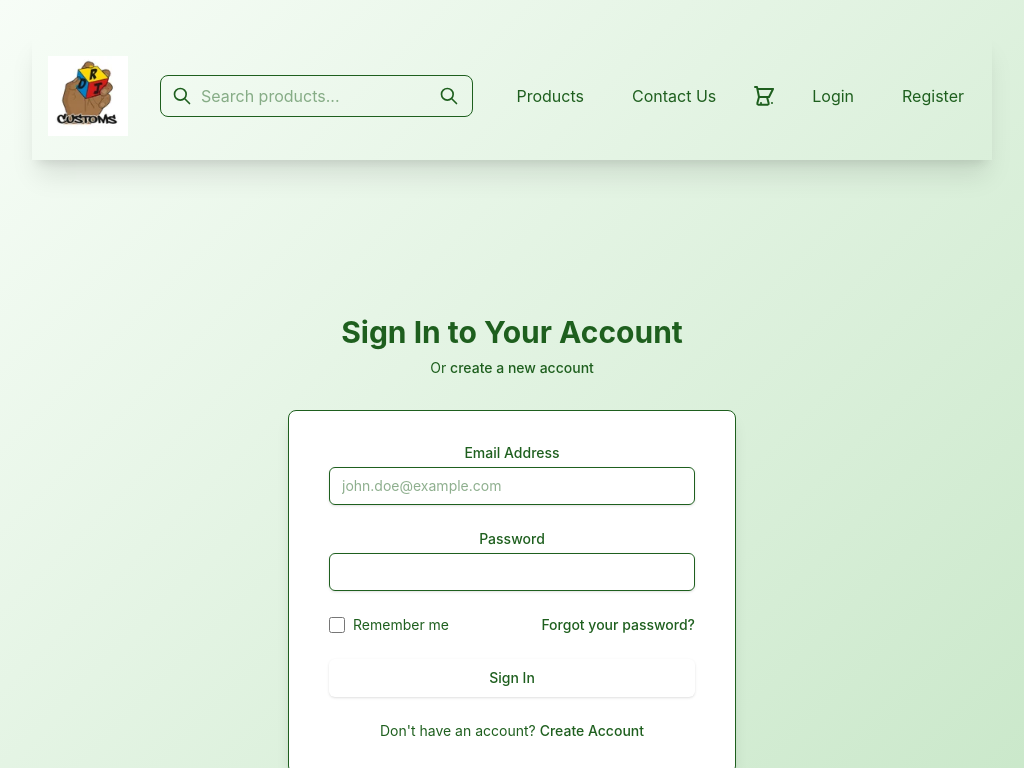
it: Login Flow Integration Tests › should validate email format
// Enter invalid email
In the field labelled "Email Address": point(512, 486) [329,467,695,505], type "invalid-email"
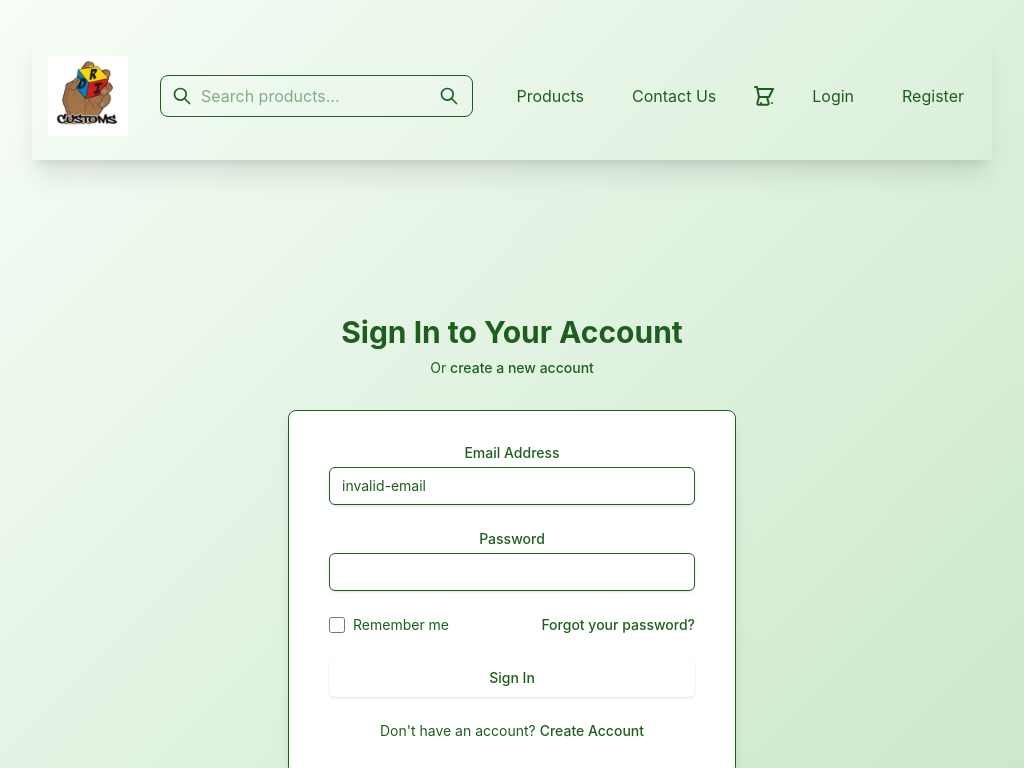
Press Tab
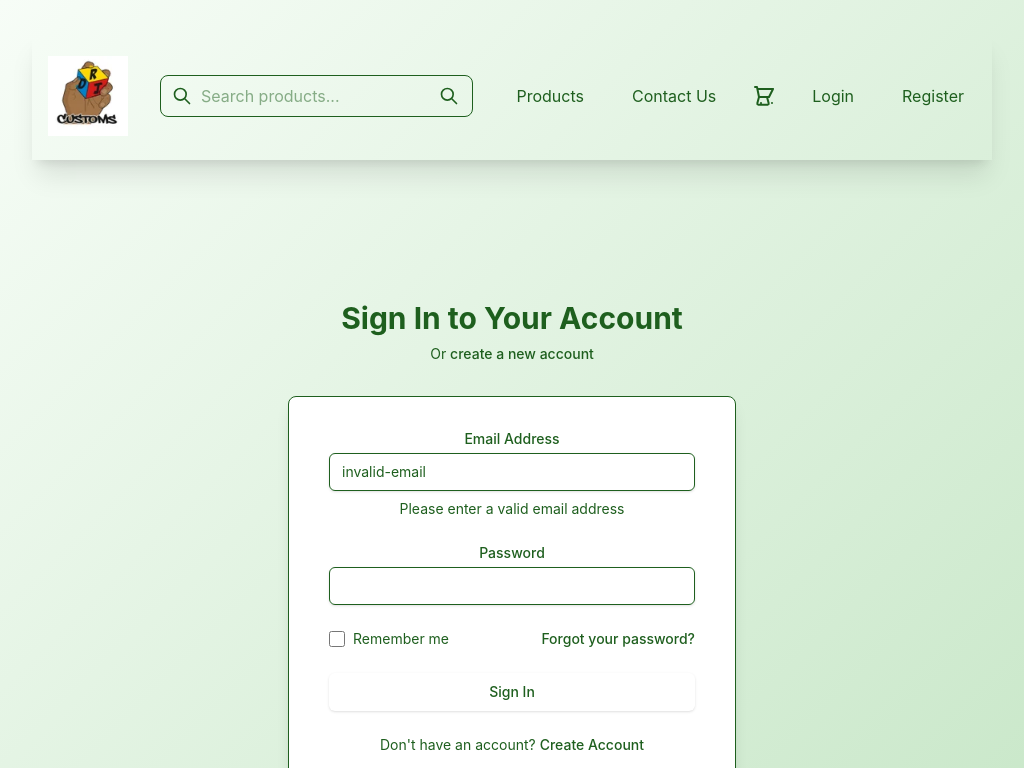
Expected: the text "Please enter a valid email address" is shown, [400,500,624,517]
